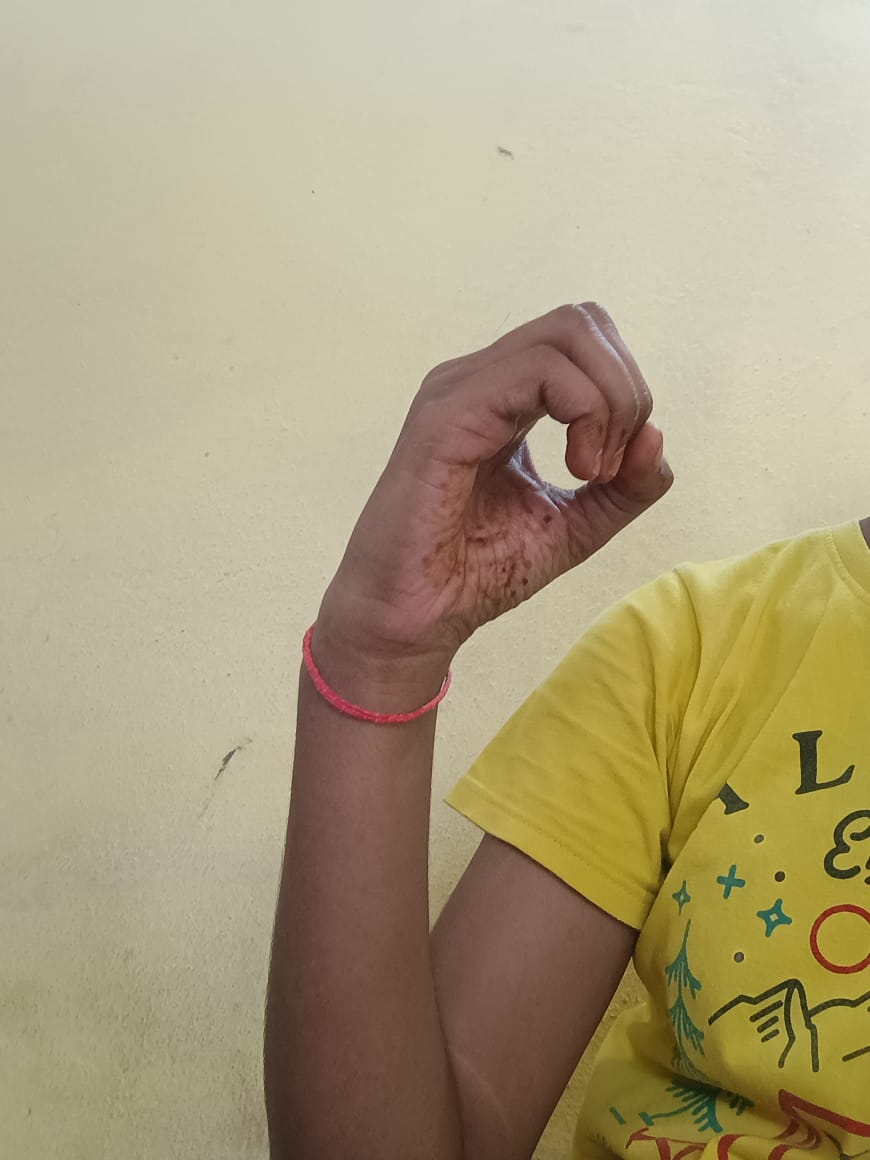O: (352, 303, 674, 613)
